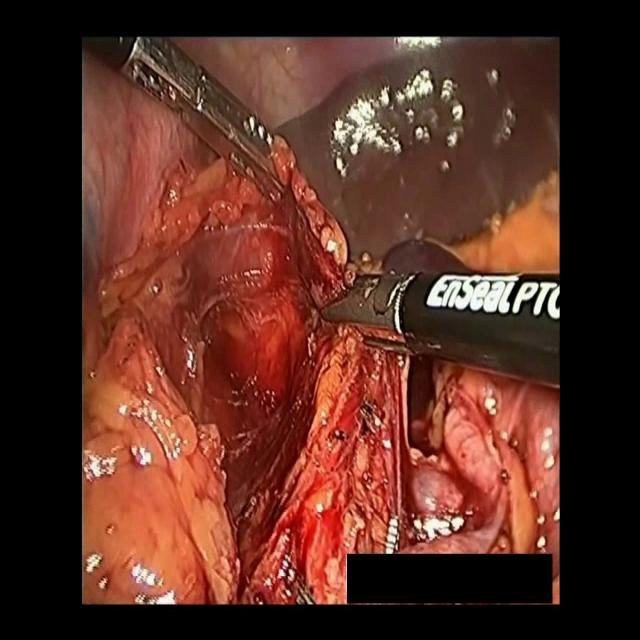surgical-area: (82, 36, 562, 604)
surgical-tool: (80, 33, 280, 203), (318, 272, 562, 391)
